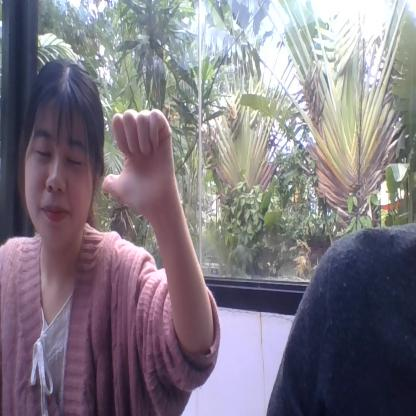right: (102, 110, 178, 214)
